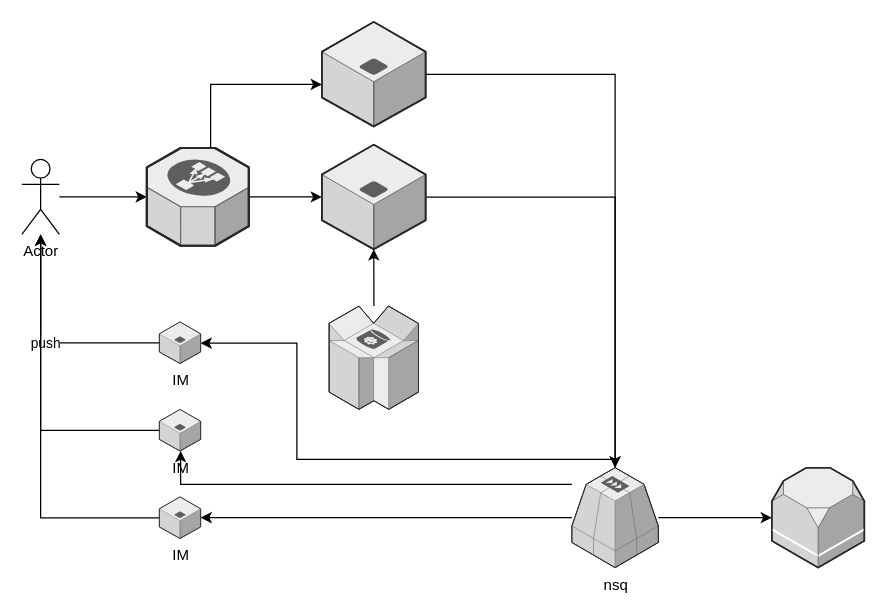
This 886x616 diagram has some shape labels left out. Each missing label, with the centre of its shape:
"db" goes at pixel 817 517.
"Redis" goes at pixel 373 357.
